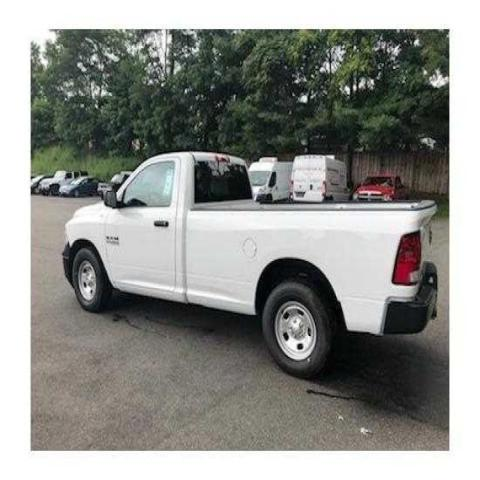pickup-truck: (62, 144, 438, 375), (353, 170, 413, 205)
van: (291, 154, 350, 202), (248, 158, 294, 203)
